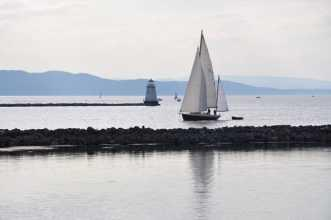fanchuan: (176, 33, 238, 121)
